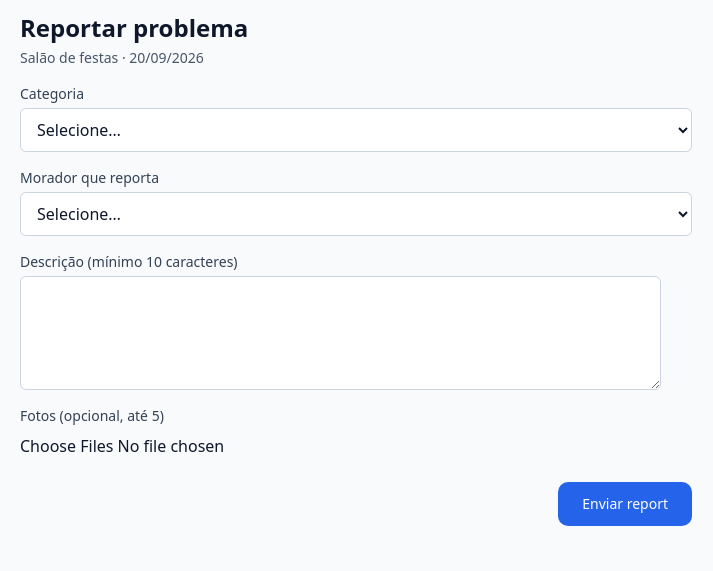
Test: ReportFormPage (RF-REP-01, RN-35) › não envia com descrição menor que 10 caracteres
The width and height of the screenshot is (713, 571).
Select "Dano/algo quebrado" in the dropdown labelled "Categoria". click: point(356, 130)
box: left=20, top=108, right=692, bottom=152
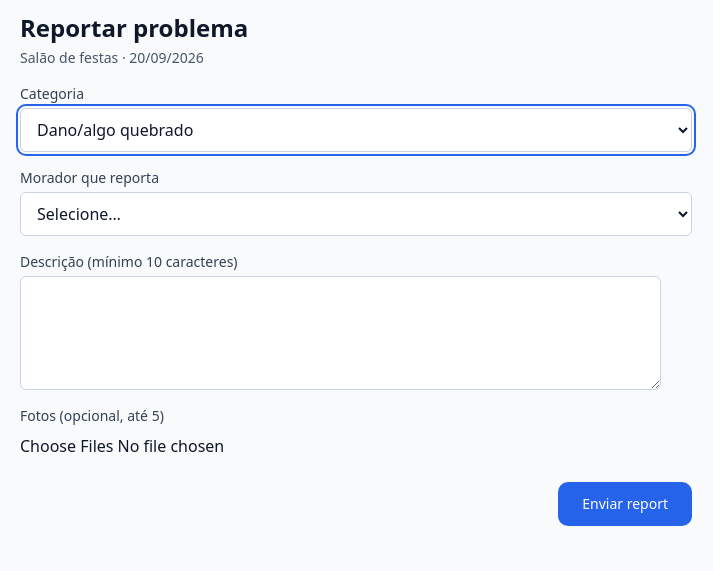
Select "Maria Souza" in the dropdown labelled "Morador que reporta". click: point(356, 214)
box: left=20, top=192, right=692, bottom=236
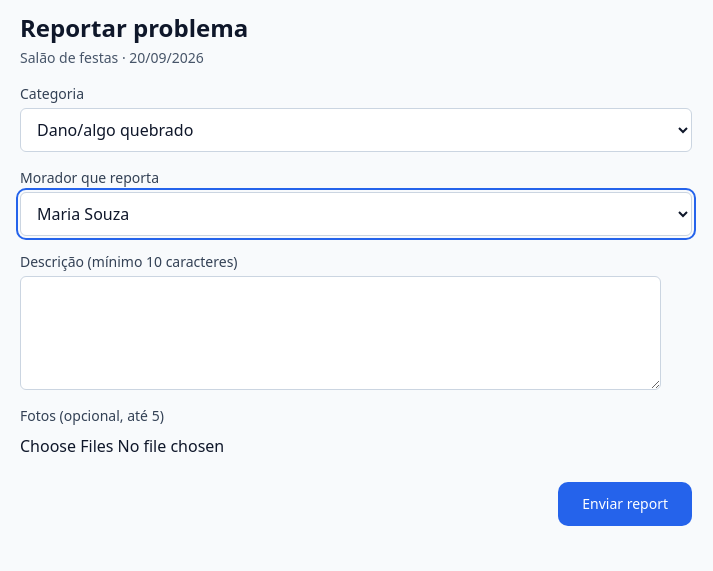
Type "curto" into the text box labelled "Descrição (mínimo 10 caracteres)". click: point(340, 333)
box: left=20, top=276, right=661, bottom=390
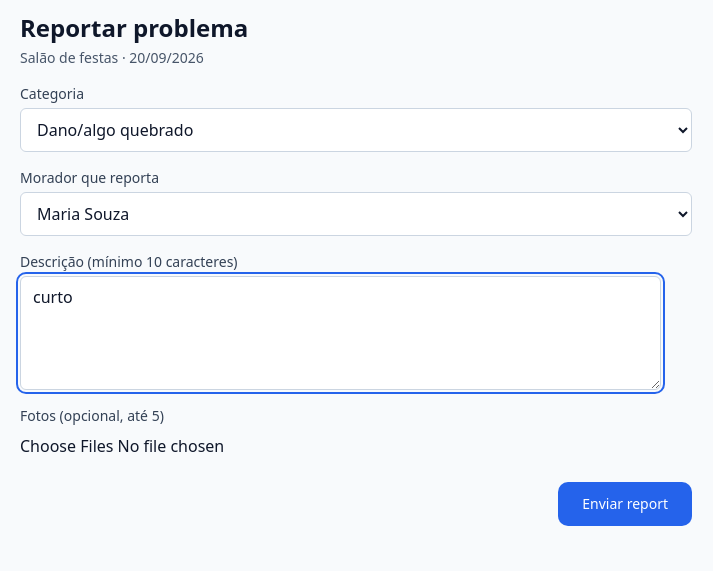
Click the button "Enviar report". click: point(625, 504)
box: left=558, top=482, right=692, bottom=526
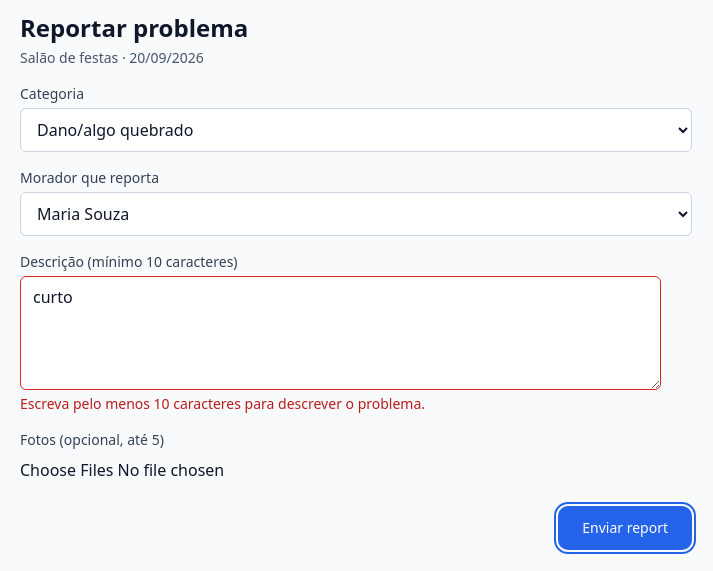
Expected: the text "Escreva pelo menos 10 caracteres para descrever o problema." is shown, left=20, top=394, right=425, bottom=413
